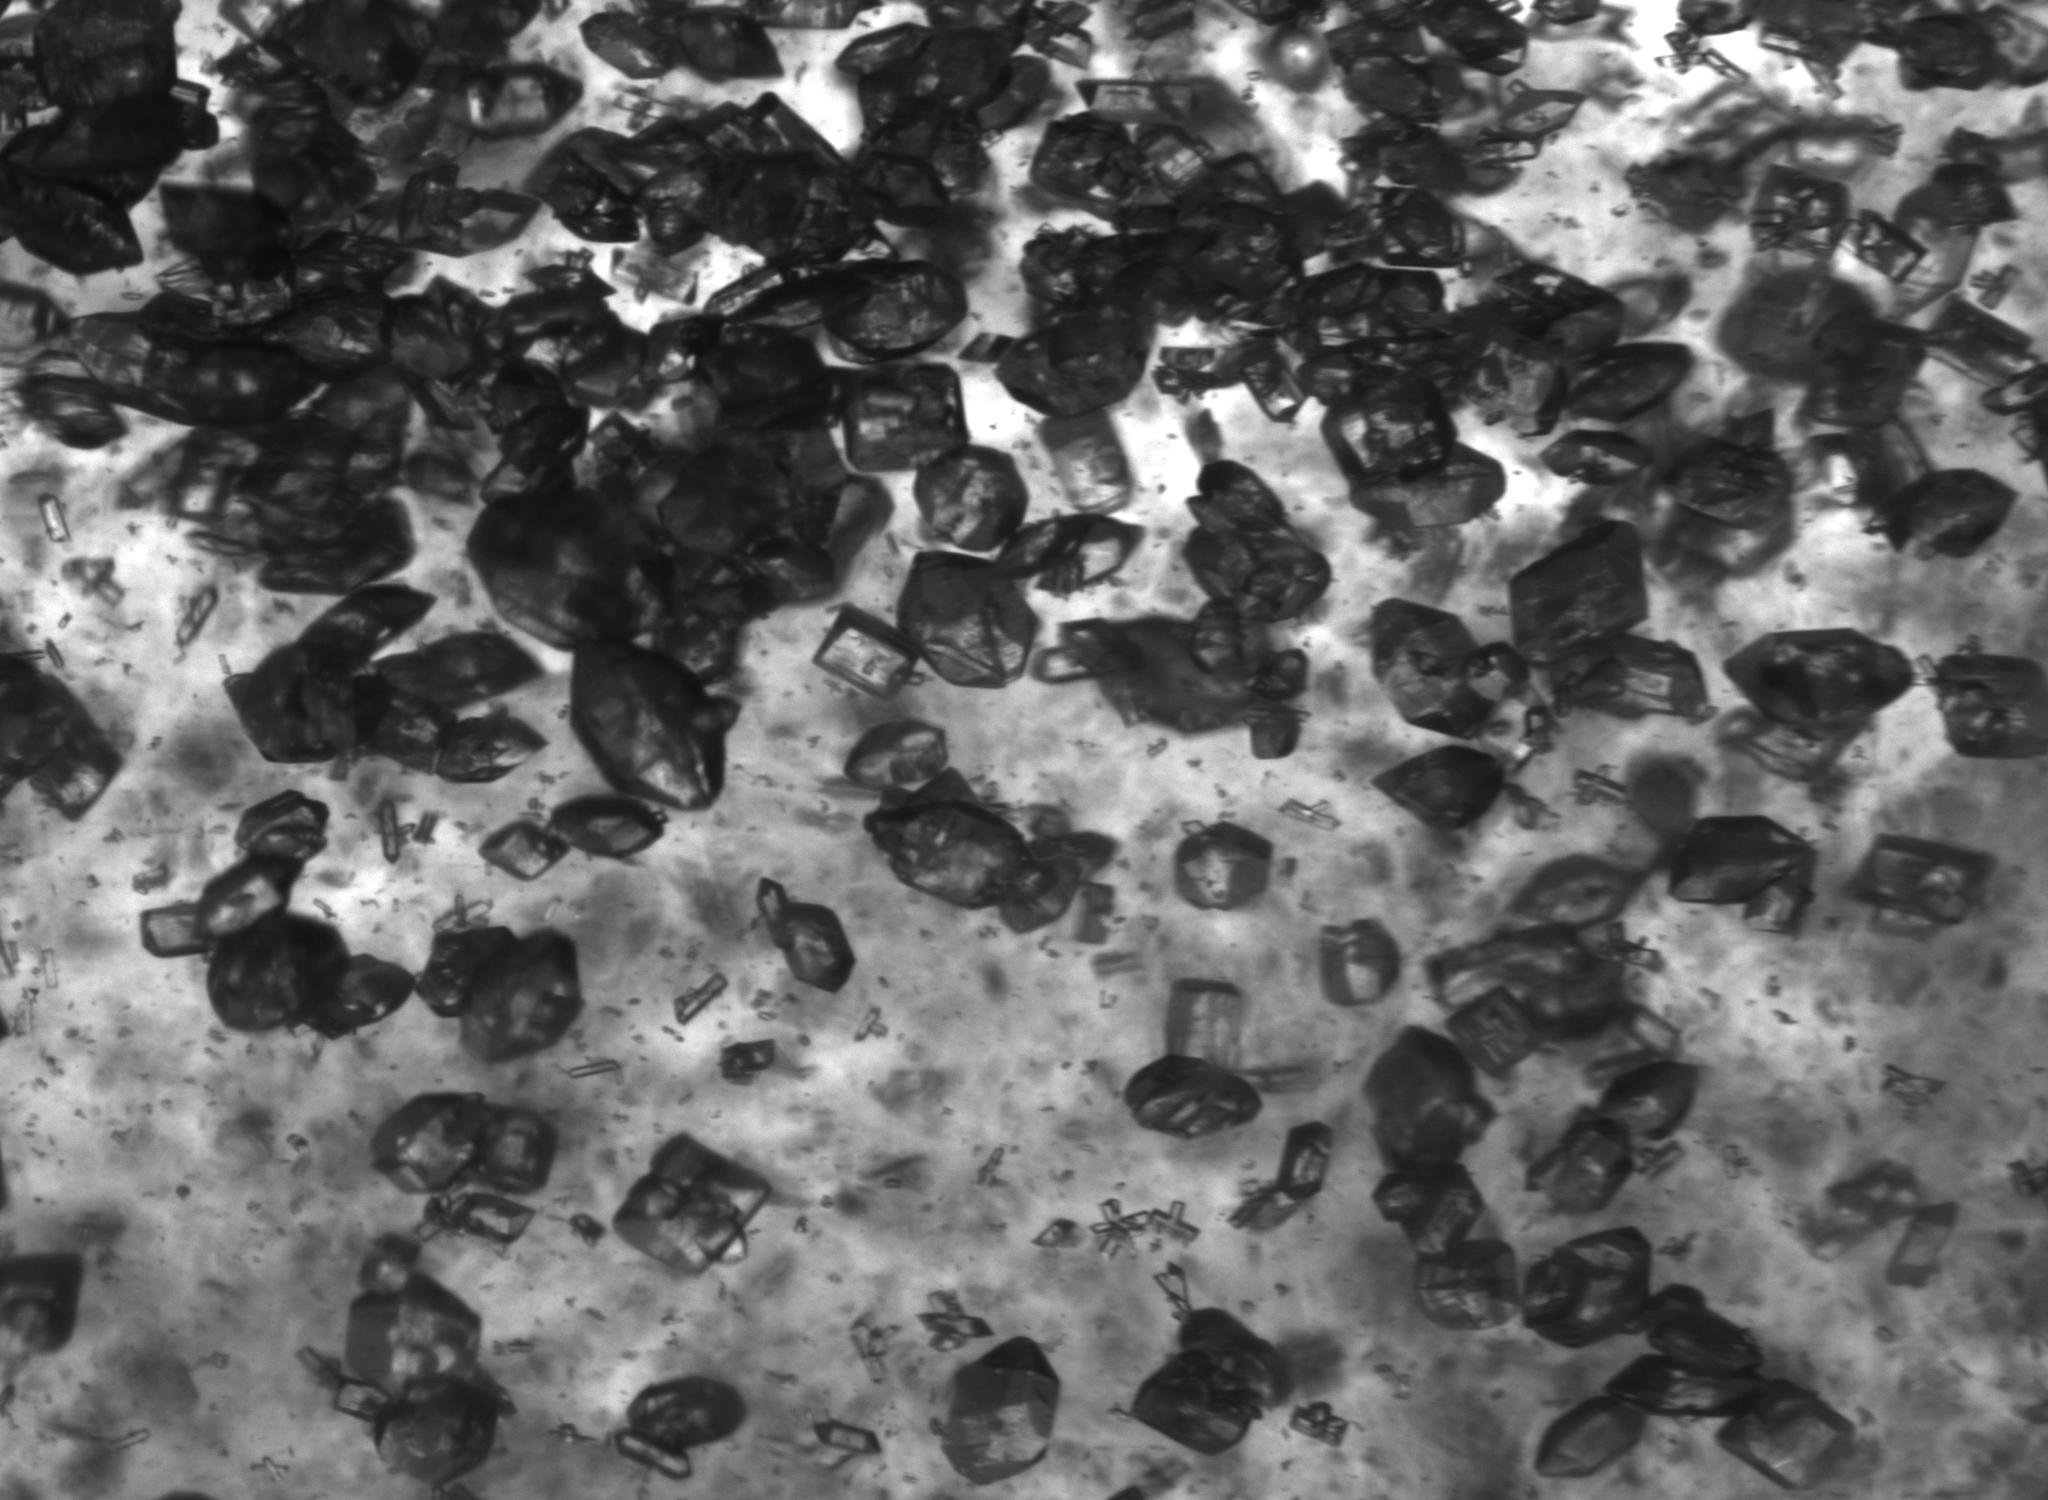crystal: (1022, 122, 1350, 326), (130, 369, 413, 595), (226, 584, 544, 783), (0, 0, 215, 274), (522, 95, 879, 259), (299, 1236, 509, 1489), (1035, 600, 1309, 759), (865, 768, 1115, 934), (836, 22, 1027, 227), (466, 488, 669, 651), (1321, 375, 1506, 554), (1428, 923, 1638, 1075), (145, 791, 329, 956), (70, 312, 320, 429), (569, 643, 736, 810), (725, 259, 967, 363), (1183, 460, 1329, 624), (1129, 1309, 1286, 1455), (415, 926, 582, 1063), (612, 1134, 773, 1276), (1367, 600, 1528, 738), (1725, 628, 1914, 743), (1604, 1285, 1765, 1419), (0, 652, 121, 818), (372, 1091, 557, 1198), (1507, 522, 1647, 660), (897, 552, 1038, 689), (1363, 1026, 1493, 1169), (933, 1338, 1061, 1484), (353, 159, 541, 256), (207, 907, 348, 1032), (1668, 816, 1817, 932), (995, 307, 1150, 418), (477, 356, 590, 504), (1520, 1228, 1652, 1347), (1717, 1379, 1856, 1490), (1534, 631, 1706, 719), (1846, 834, 1994, 932), (609, 1374, 746, 1479), (840, 363, 968, 474), (1450, 324, 1566, 439), (1929, 647, 2048, 759), (913, 444, 1029, 557), (1297, 264, 1447, 350), (159, 183, 288, 278), (1372, 744, 1507, 834), (16, 340, 127, 449), (992, 514, 1140, 595), (1886, 469, 2018, 558), (1658, 436, 1790, 525), (262, 288, 391, 379), (1124, 1056, 1263, 1139), (1229, 1121, 1332, 1231), (755, 878, 854, 993), (1921, 293, 2035, 391), (1525, 1112, 1635, 1214), (1744, 159, 1854, 261), (813, 603, 924, 700), (442, 64, 580, 140), (1565, 342, 1693, 423), (1035, 409, 1134, 514), (1374, 1163, 1484, 1255), (1412, 1239, 1522, 1330), (1509, 854, 1644, 927), (650, 8, 782, 81), (1533, 1393, 1646, 1478), (310, 954, 417, 1039), (1175, 822, 1274, 910), (1596, 1059, 1700, 1142), (1027, 110, 1131, 192), (1894, 11, 2000, 91), (1344, 56, 1466, 124), (1417, 0, 1528, 75), (545, 792, 666, 859), (1372, 188, 1469, 269), (843, 719, 949, 792), (1317, 918, 1401, 1007), (1491, 261, 1614, 320), (1166, 978, 1245, 1067), (418, 1188, 534, 1247), (1539, 428, 1654, 485), (579, 10, 669, 81), (638, 313, 725, 385), (1884, 1203, 1957, 1287), (1076, 78, 1202, 126), (1843, 210, 1924, 283), (479, 819, 571, 881), (1655, 21, 1749, 80), (609, 245, 698, 305), (1242, 344, 1307, 423), (1498, 84, 1585, 140), (917, 1290, 994, 1350), (744, 0, 884, 30), (1088, 1198, 1159, 1257), (523, 262, 619, 301), (811, 1419, 881, 1468), (1617, 1002, 1679, 1056), (673, 970, 728, 1026), (1288, 1400, 1352, 1448), (1881, 1063, 1945, 1109), (851, 1317, 895, 1382), (1154, 1261, 1199, 1322), (176, 582, 218, 644), (719, 1039, 776, 1083), (1571, 765, 1628, 805), (1278, 797, 1342, 830), (956, 331, 1019, 363), (375, 800, 402, 865), (38, 493, 70, 542), (1032, 1218, 1076, 1249), (569, 1059, 620, 1080)
